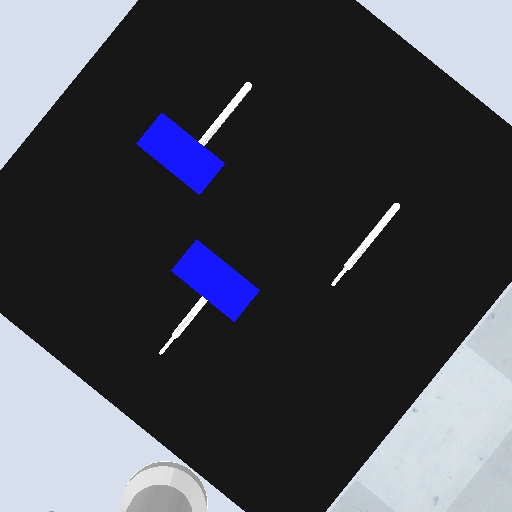bisturi: (327, 200, 407, 288), (194, 78, 256, 150), (157, 294, 211, 356)
